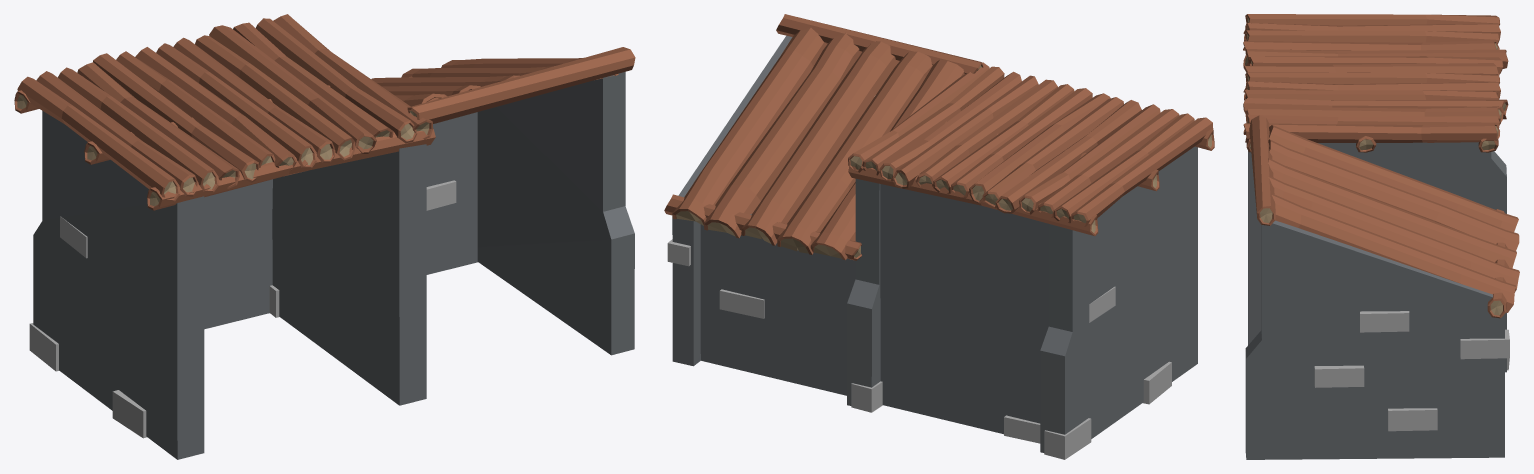
File: LightStoneBuildingMediumCave1.fbx
The picture shows the model from 3 angles, left to right: view 1: azimuth 30°, elevation 25°; view 2: azimuth 150°, elevation 25°; view 3: azimuth 270°, elevation 25°; orthographic projection. The views are drawn at different scales.
Visible parts, largest first — view 1: LightStoneBuildingMediumCave1; view 2: LightStoneBuildingMediumCave1; view 3: LightStoneBuildingMediumCave1.
Part boxes in pixels (bbox=[...]): LightStoneBuildingMediumCave1: bbox=[14, 14, 635, 459]; LightStoneBuildingMediumCave1: bbox=[664, 14, 1214, 459]; LightStoneBuildingMediumCave1: bbox=[1243, 14, 1519, 459].
Bounding box in the file's own units: 1187 × 681 × 666.
